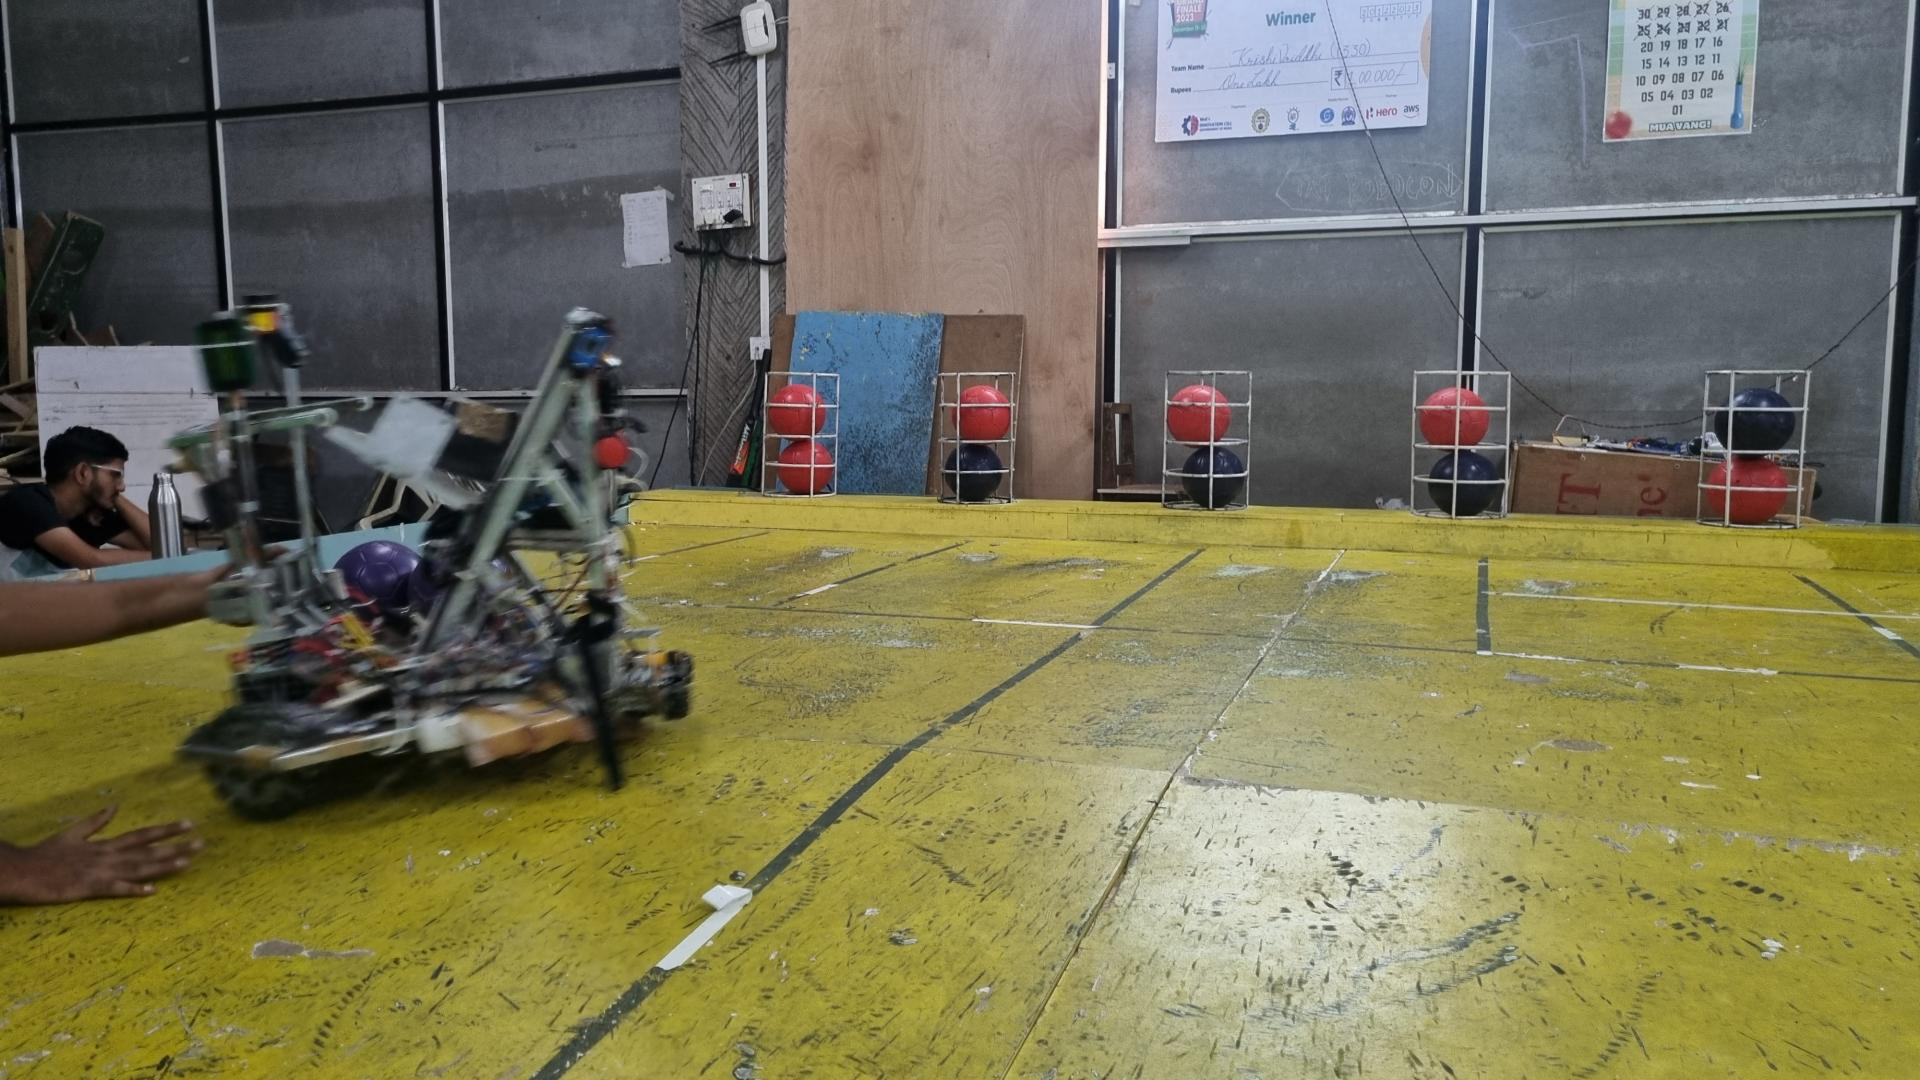dhoka: (1714, 386, 1796, 454), (1428, 450, 1501, 517), (1182, 446, 1245, 509), (942, 442, 1005, 502)
laale: (1706, 458, 1788, 525), (1418, 386, 1489, 446), (1166, 386, 1230, 442), (777, 438, 832, 495), (769, 382, 825, 438), (960, 386, 1013, 442)
